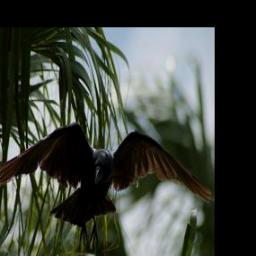Crow: (0, 120, 214, 247)
